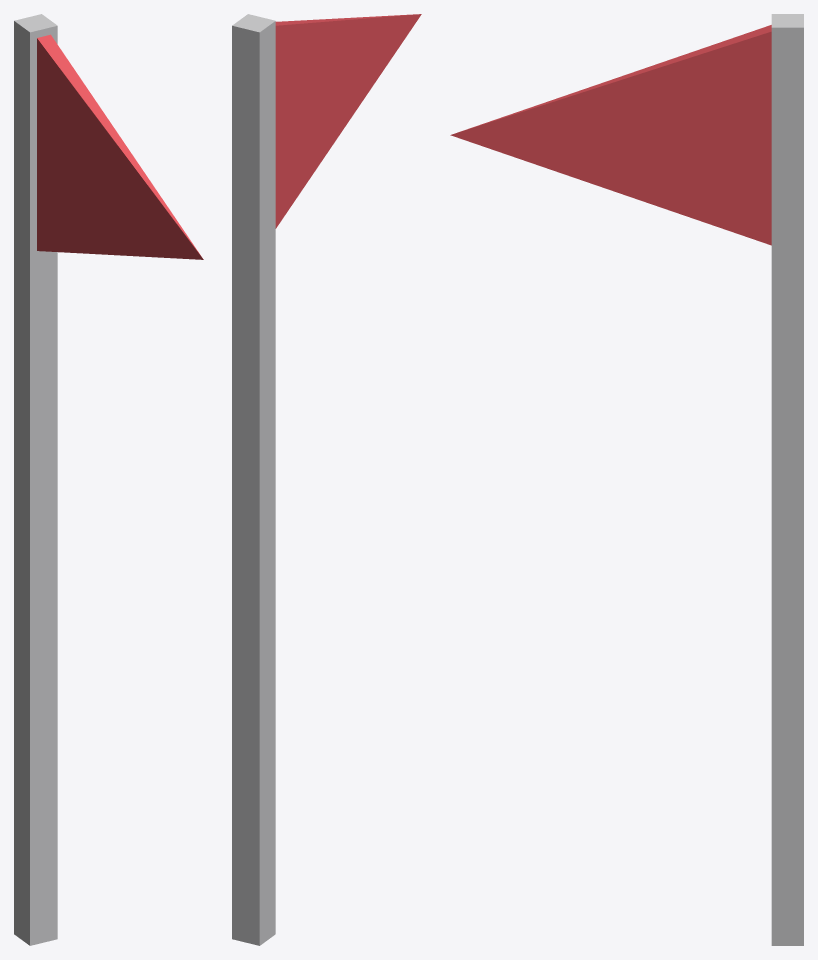
File: flag.glb
3 renders of one model, left to right at view 1: azimuth 30°, elevation 25°; view 2: azimuth 150°, elevation 25°; view 3: azimuth 270°, elevation 25°, orthographic.
Visible parts, largest first — view 1: flag_red; view 2: flag_red; view 3: flag_red.
Boxes of the visible parts, x1=… form: flag_red: x1=14, y1=14, x2=203, y2=945; flag_red: x1=232, y1=14, x2=421, y2=945; flag_red: x1=450, y1=14, x2=803, y2=945.
Size of the model in its own units: 0.0492 by 1.55 by 0.5413.
